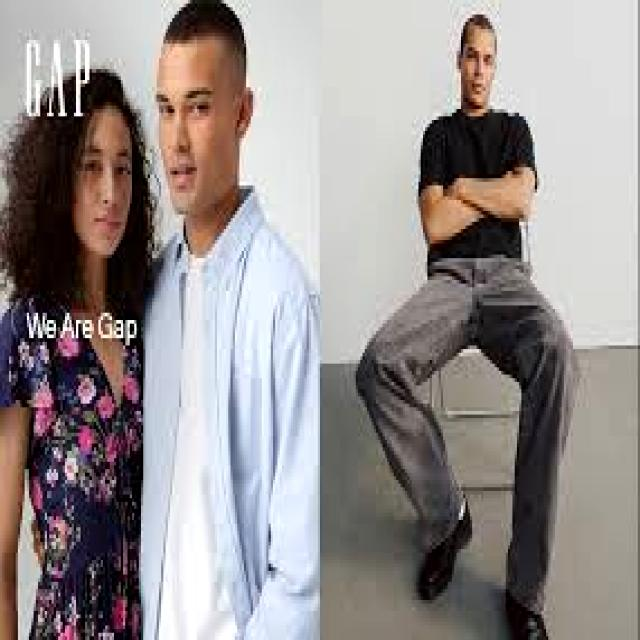dress: (4, 291, 144, 639)
face: (157, 37, 252, 218), (72, 106, 132, 258), (459, 26, 496, 112)
foot-wear: (415, 500, 473, 600), (494, 563, 552, 640)
lower-wear: (356, 255, 579, 610)
top-wear: (141, 182, 318, 640), (420, 116, 532, 260)
